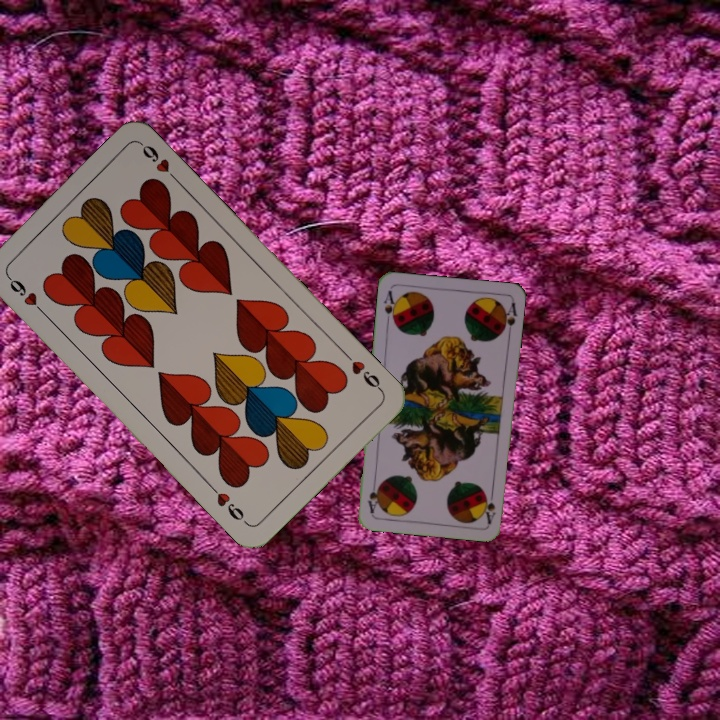H9: (340, 348, 385, 395), (3, 271, 48, 318)
SA: (380, 286, 400, 327), (481, 485, 498, 526)
